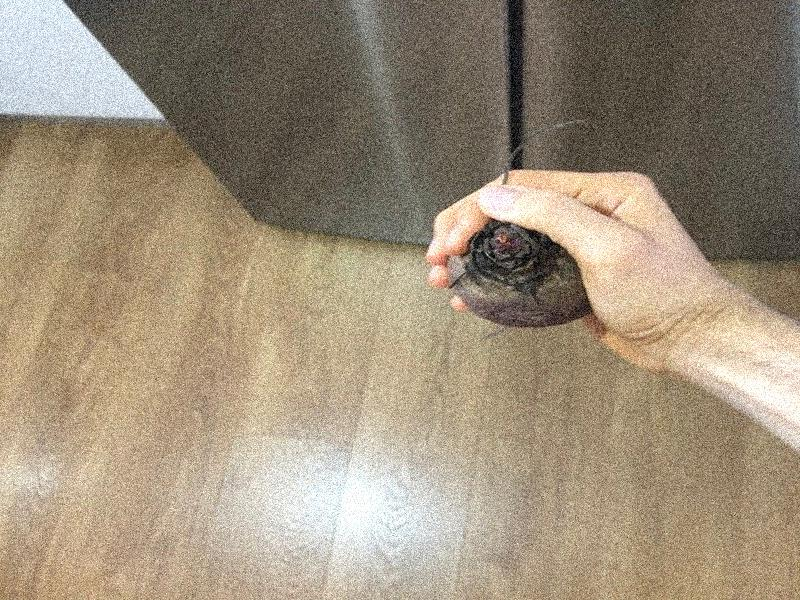Beet: (445, 117, 593, 327)
